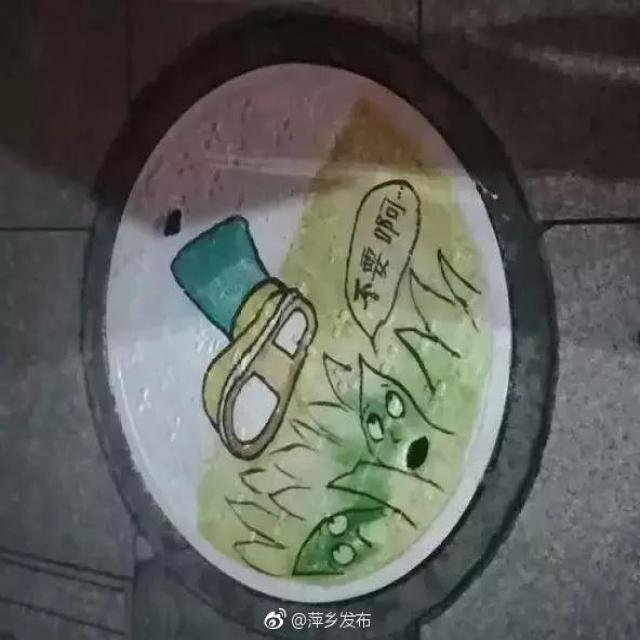manhole: (106, 64, 510, 601)
